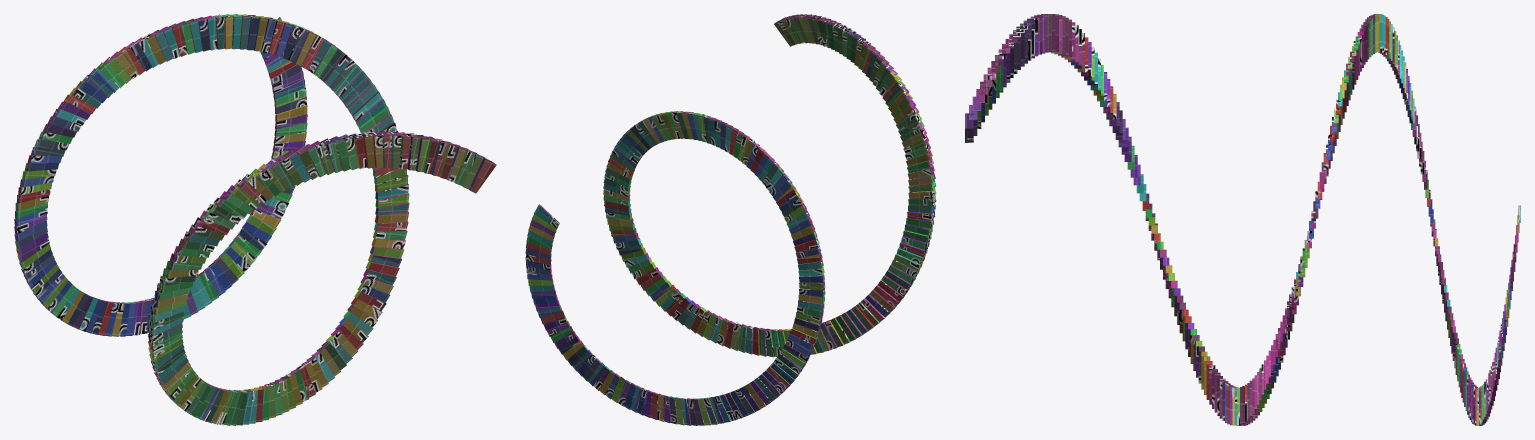
File: Stairs_to_hell_03.fbx
3 renders of one model, left to right at view 1: azimuth 30°, elevation 25°; view 2: azimuth 150°, elevation 25°; view 3: azimuth 270°, elevation 25°, orthographic. The views are drawn at different scales.
Visible parts, largest first — view 1: Stairs_hell_03; view 2: Stairs_hell_03; view 3: Stairs_hell_03.
Boxes of the visible parts, x1,y1,x2,y2 form: Stairs_hell_03: (14, 14, 496, 425); Stairs_hell_03: (525, 14, 936, 425); Stairs_hell_03: (965, 14, 1520, 425).
Size of the model in its own units: 17.33 by 17.33 by 23.38.
